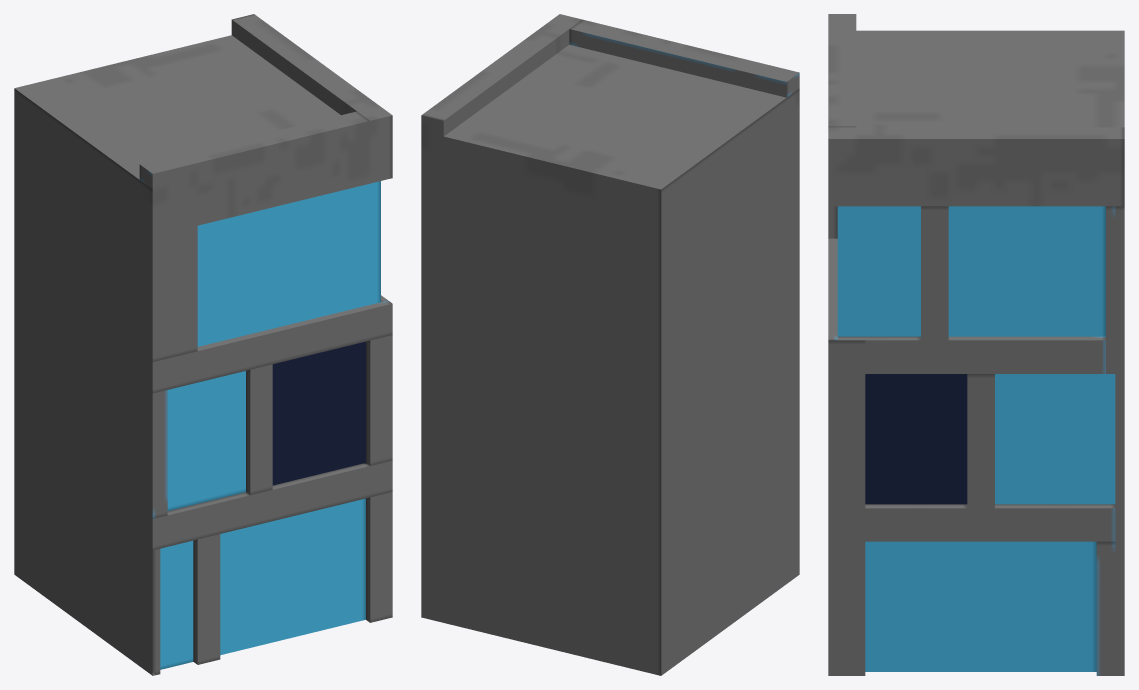
File: B_M_GÓRA_BOKKKKKK.dae
The picture shows the model from 3 angles, left to right: view 1: azimuth 30°, elevation 25°; view 2: azimuth 150°, elevation 25°; view 3: azimuth 270°, elevation 25°; orthographic projection. The views are drawn at different scales.
Parts seen in each view (by area): view 1: Content; view 2: Content; view 3: Content.
Boxes of the visible parts, box(x1,y1,x2,y2) form: Content: box(14, 14, 392, 675); Content: box(421, 14, 799, 675); Content: box(828, 14, 1124, 675).
Size of the model in its own units: 32 by 64 by 32.
Materials: 1 (1 with a texture image).
